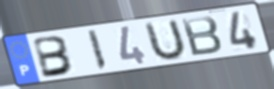4: (227, 9, 259, 51), (118, 24, 148, 67)
B: (32, 34, 76, 79), (179, 14, 224, 58)
I: (85, 29, 109, 73)
U: (144, 17, 188, 64)
